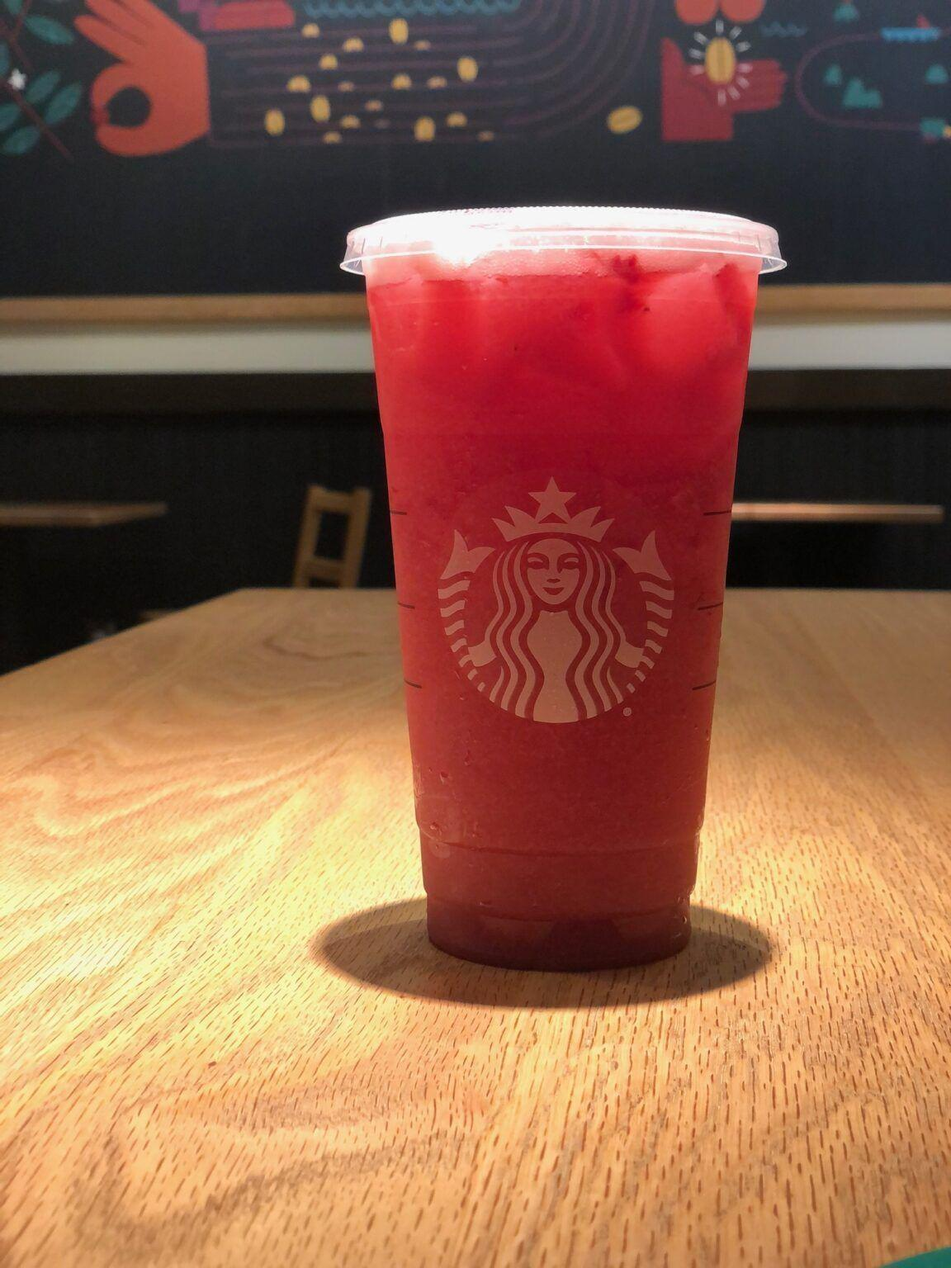cup-disposable: (348, 204, 777, 984)
